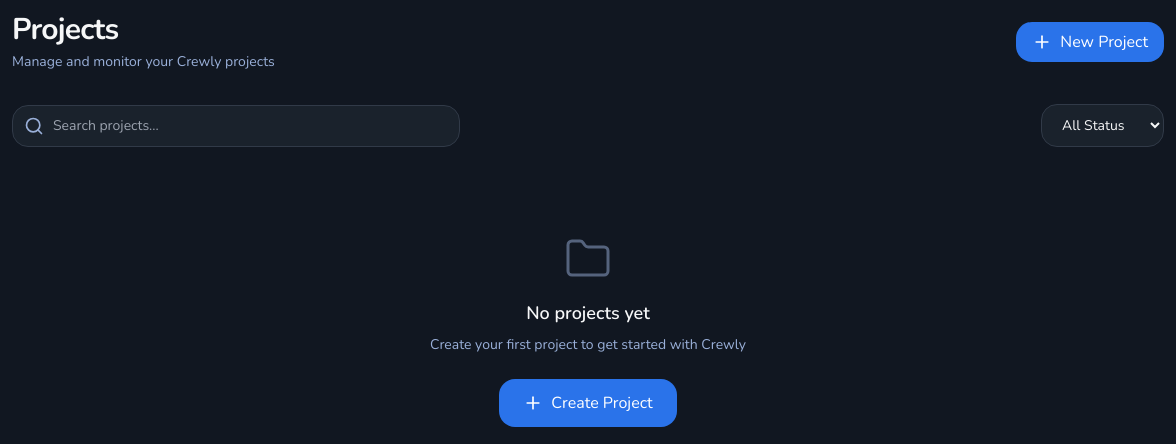
Test: Projects Page › Empty State › should show create button in empty state only when no filters
The image size is (1176, 444).
Expected: the button "Create Project" is shown, [499,379,677,427]
Note: Apply a filter
Select "Active" in the dropdown at (1102, 126), box [1041,104,1164,147]
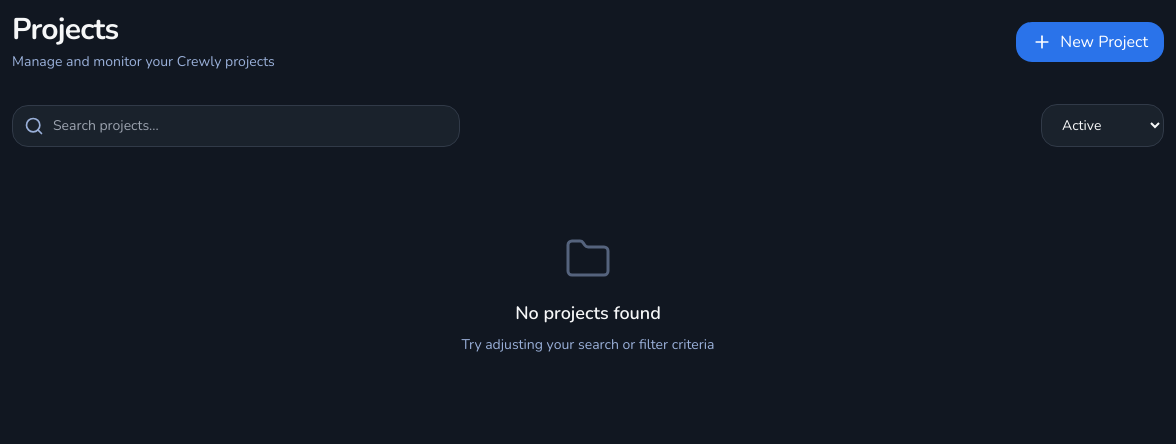
Expected: the button "Create Project" is gone
